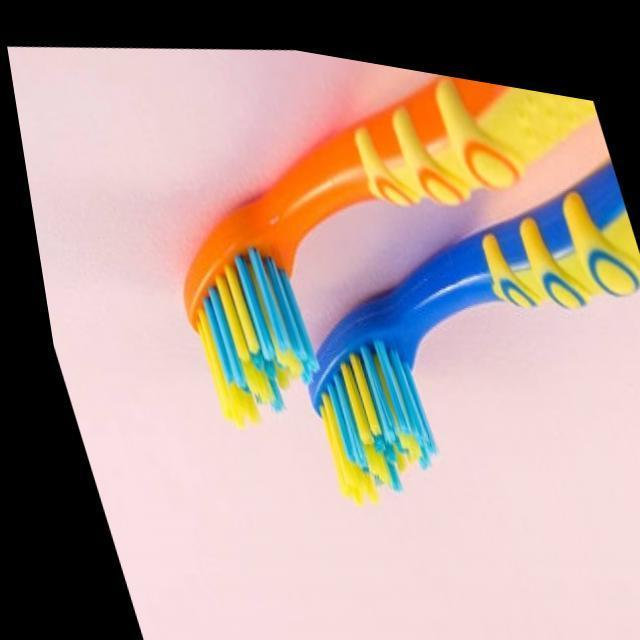toothbrush: (172, 59, 598, 422), (298, 142, 640, 481)
